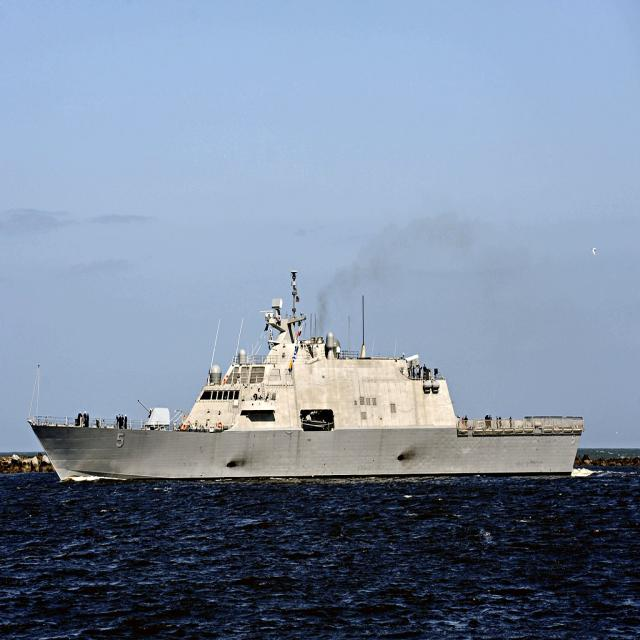navalvessels: (20, 210, 590, 498)
